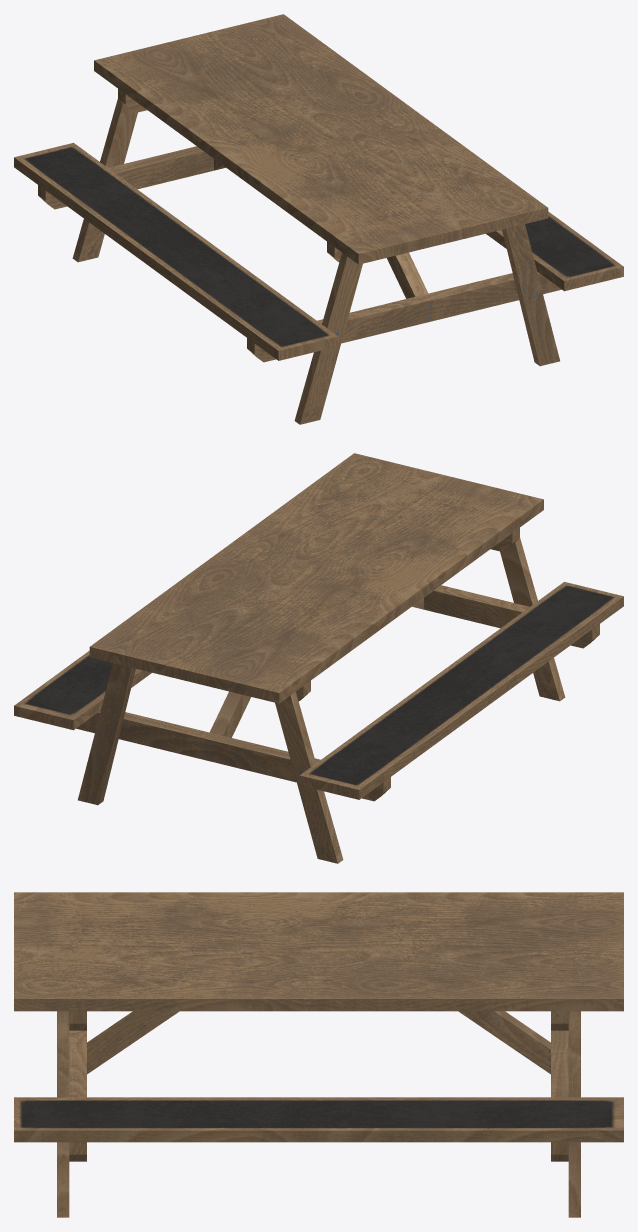
File: mesa.obj
The picture shows the model from 3 angles, top to bottom: view 1: azimuth 30°, elevation 25°; view 2: azimuth 150°, elevation 25°; view 3: azimuth 270°, elevation 25°; orthographic projection. The views are drawn at different scales.
Visible parts, largest first — view 1: Table_low; view 2: Table_low; view 3: Table_low.
Boxes of the visible parts, x1=… form: Table_low: x1=14, y1=14, x2=623, y2=424; Table_low: x1=14, y1=453, x2=623, y2=863; Table_low: x1=14, y1=892, x2=623, y2=1217.
Bounding box in the file's own units: 32.61 × 15.75 × 43.28.
1 material, 1 textured.
